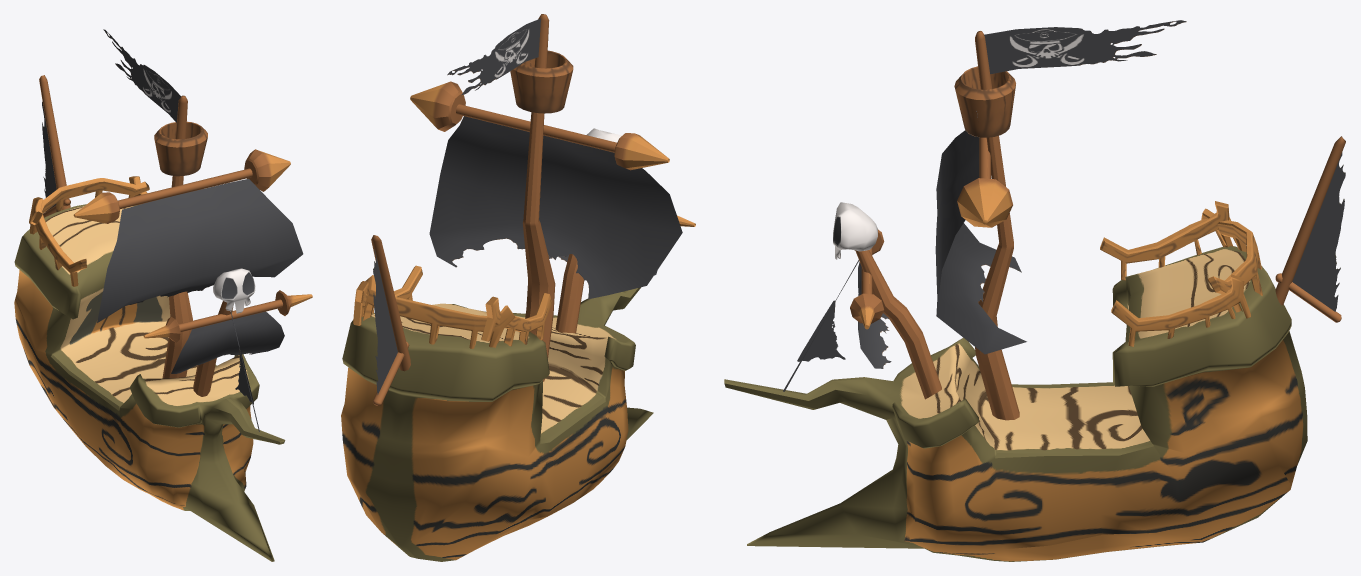
The model's file is Bateau_LVL1.fbx.
3 renders of one model, left to right at view 1: azimuth 30°, elevation 25°; view 2: azimuth 150°, elevation 25°; view 3: azimuth 270°, elevation 25°, orthographic. The views are drawn at different scales.
Parts seen in each view (by area): view 1: DEFORM_V4; view 2: DEFORM_V4; view 3: DEFORM_V4.
Part boxes in pixels (x1=…): DEFORM_V4: x1=14, y1=29, x2=312, y2=561; DEFORM_V4: x1=341, y1=14, x2=695, y2=561; DEFORM_V4: x1=724, y1=20, x2=1345, y2=561.
Size of the model in its own units: 14.33 by 26.7 by 27.74.
1 material, 1 textured.
